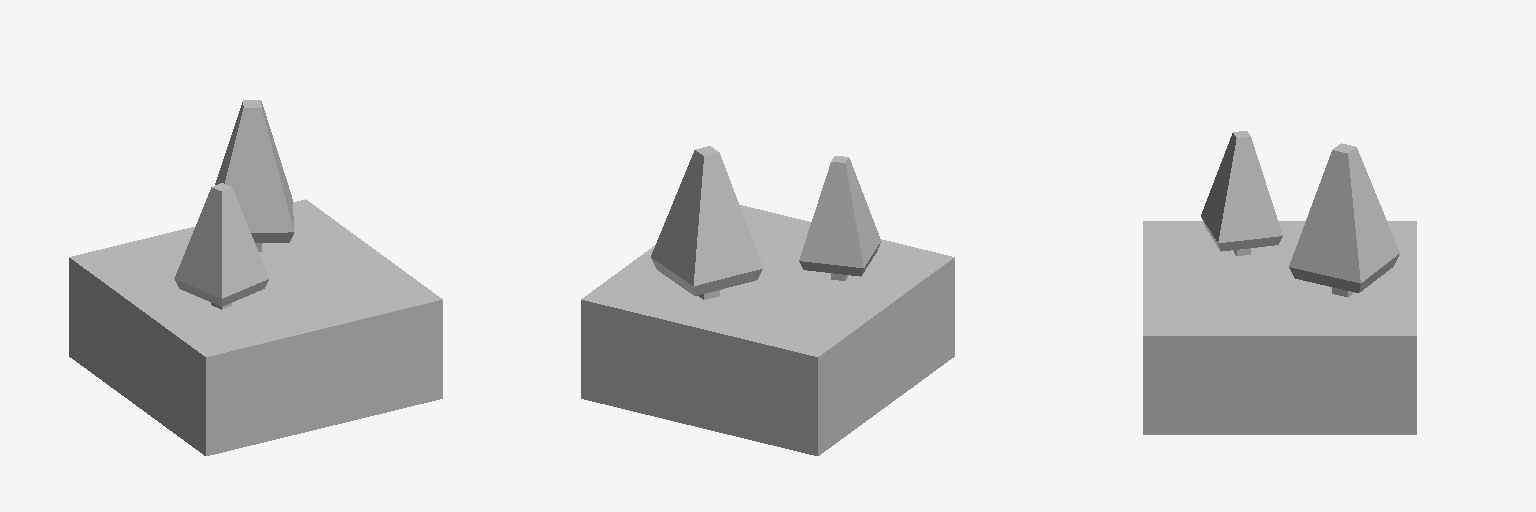
File: tile_064.obj
The picture shows the model from 3 angles: view 1: azimuth 30°, elevation 25°; view 2: azimuth 150°, elevation 25°; view 3: azimuth 270°, elevation 25°; orthographic projection.
Visible parts, largest first — view 1: tile_064, Component#2; view 2: tile_064, Component#2; view 3: tile_064, Component#2.
Part boxes in pixels (bbox=[...]): tile_064: bbox=[69, 199, 442, 455]; Component#2: bbox=[174, 100, 293, 309]; tile_064: bbox=[581, 205, 954, 455]; Component#2: bbox=[651, 146, 880, 299]; tile_064: bbox=[1143, 221, 1416, 434]; Component#2: bbox=[1201, 131, 1399, 296].
Size of the model in its own units: 1 by 0.9802 by 1.